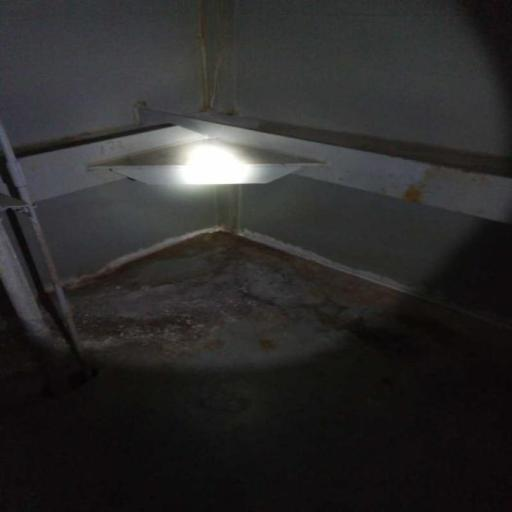Detect-rust-on-metal-surfaces: (60, 228, 511, 391), (400, 183, 438, 206)
